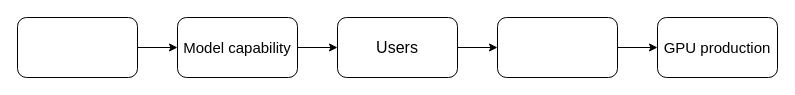
This 795x95 diagram has some shape labels left out. Here are the shapes that lost their labels. From the top down, the centre of each, then its label:
At point (77, 47): "Model training".
At point (557, 47): "Money".
